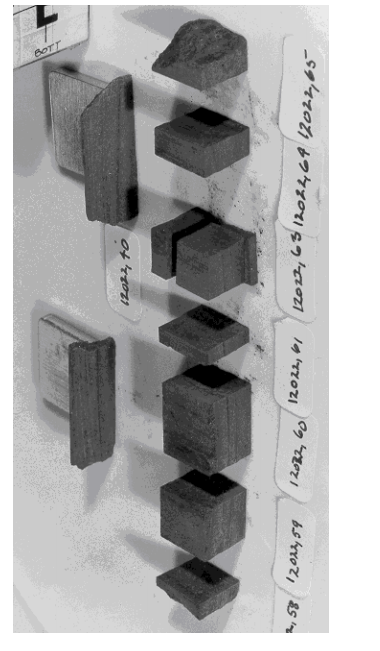Basalt: (77, 52, 157, 253), (58, 321, 140, 493), (149, 212, 258, 327), (153, 400, 235, 508), (164, 104, 241, 206), (148, 310, 232, 391), (154, 32, 257, 93), (171, 510, 213, 597)
